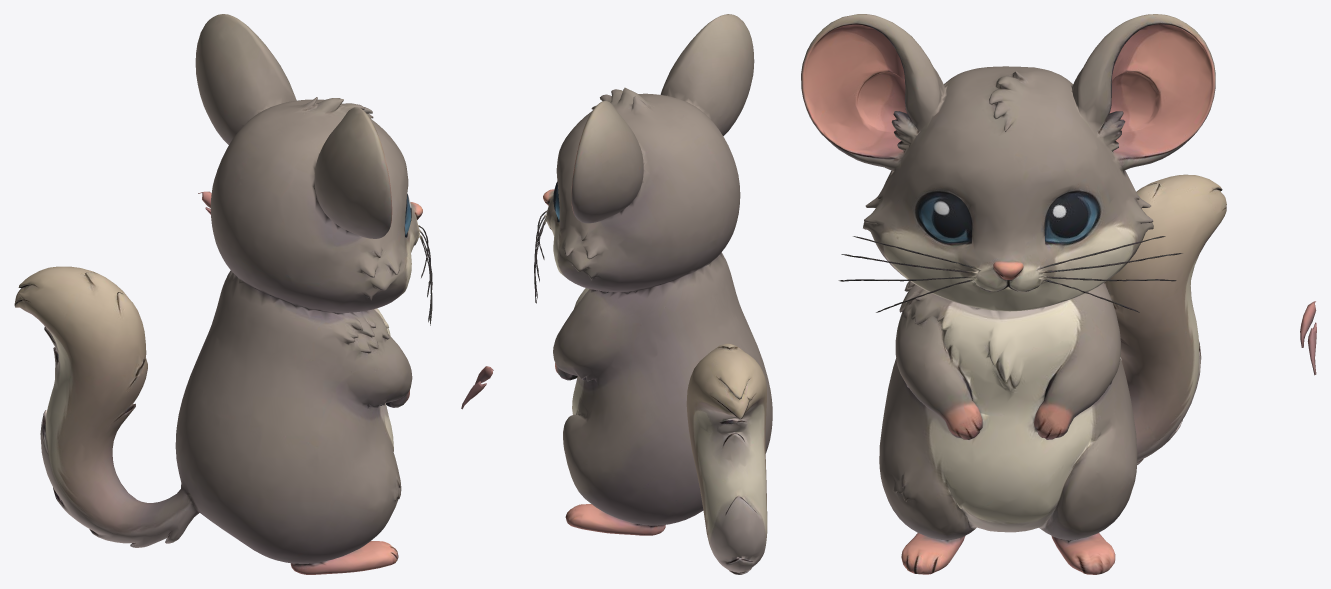
File: common_dormouse.glb
The picture shows the model from 3 angles, left to right: view 1: azimuth 30°, elevation 25°; view 2: azimuth 150°, elevation 25°; view 3: azimuth 270°, elevation 25°; orthographic projection. The views are drawn at different scales.
Parts seen in each view (by area): view 1: tripo_node_8761f8dc-4fb6-4ebc-8754-589a25f6879c; view 2: tripo_node_8761f8dc-4fb6-4ebc-8754-589a25f6879c; view 3: tripo_node_8761f8dc-4fb6-4ebc-8754-589a25f6879c.
Boxes of the visible parts, x1,y1,x2,y2 form: tripo_node_8761f8dc-4fb6-4ebc-8754-589a25f6879c: [14, 14, 432, 574]; tripo_node_8761f8dc-4fb6-4ebc-8754-589a25f6879c: [461, 14, 772, 574]; tripo_node_8761f8dc-4fb6-4ebc-8754-589a25f6879c: [801, 14, 1316, 574].
Size of the model in its own units: 0.6744 by 1 by 0.8774.
1 material, 1 textured.
